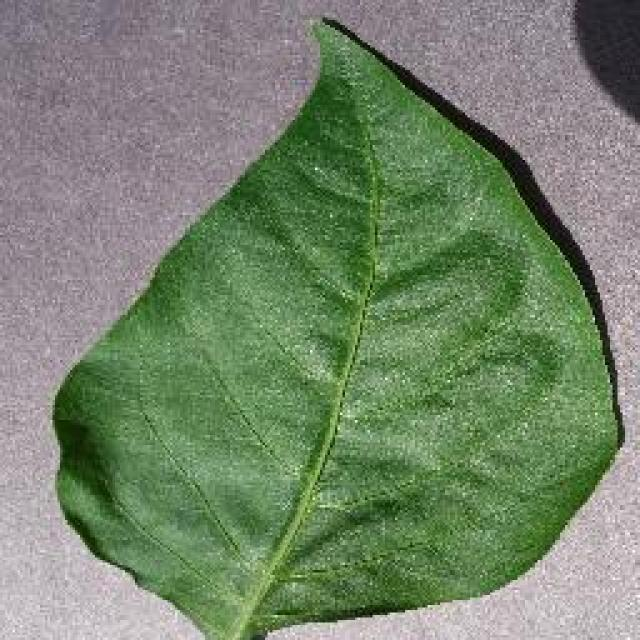Leaf: (59, 13, 628, 625)
